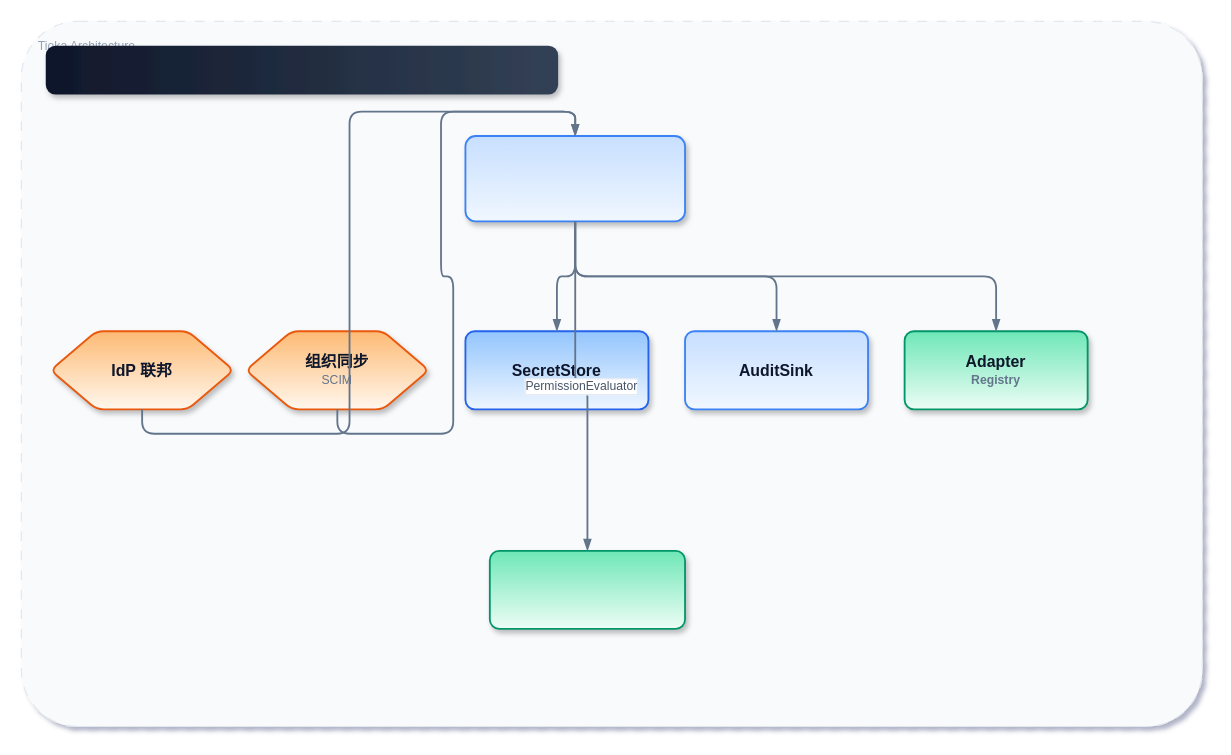
Some shapes in this 1231 by 755 pixel diagram are drawn without their labels. The shapes that lost their labels are listed below. From the top down, each one's centre as x and y in pixels, then its label:
(x=302, y=71): Foundation 与 SPI
(x=576, y=180): Foundation 鉴权/RBAC/空间
(x=588, y=591): 各业务域
